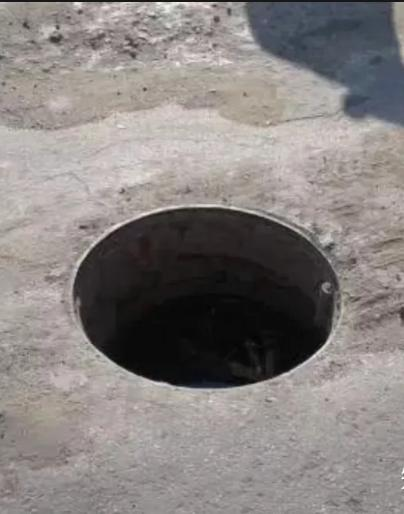wellcover: (70, 202, 345, 394)
